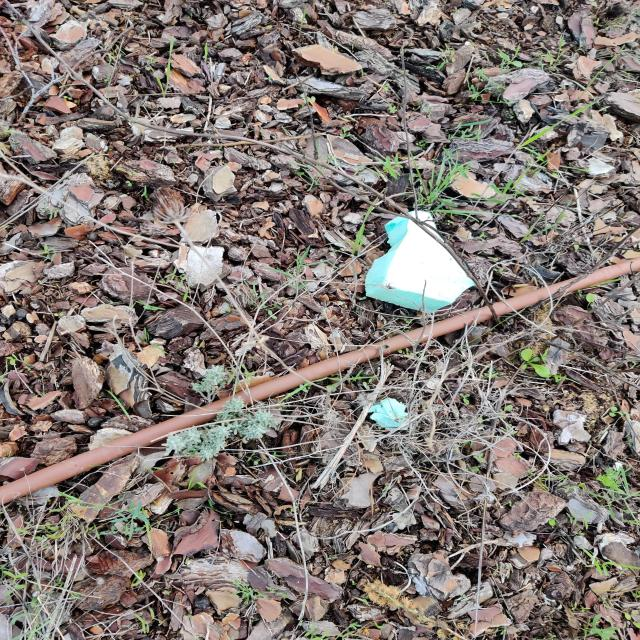litter: (349, 184, 521, 323)
